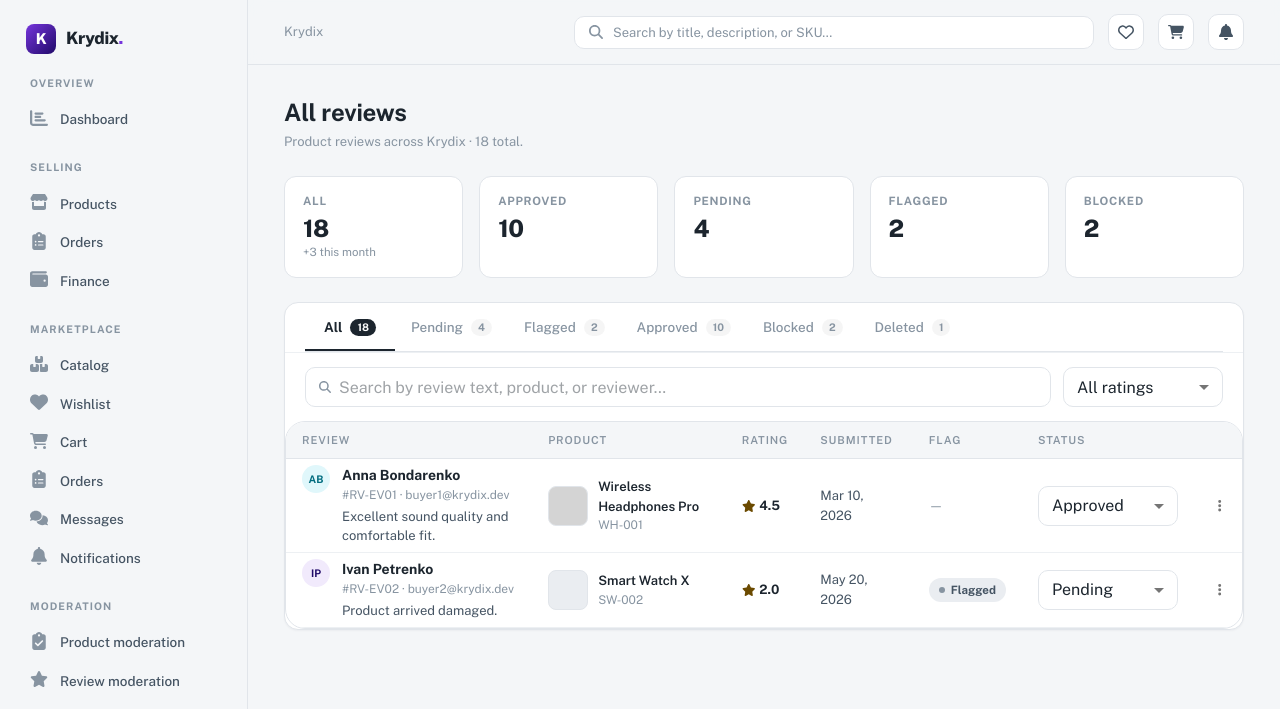
Test case: ReviewsManagementPage — Admin › changes review status via dropdown
Click the dropdown labelled "Approved" at (1088, 506), box left=1052, top=496, right=1124, bottom=515
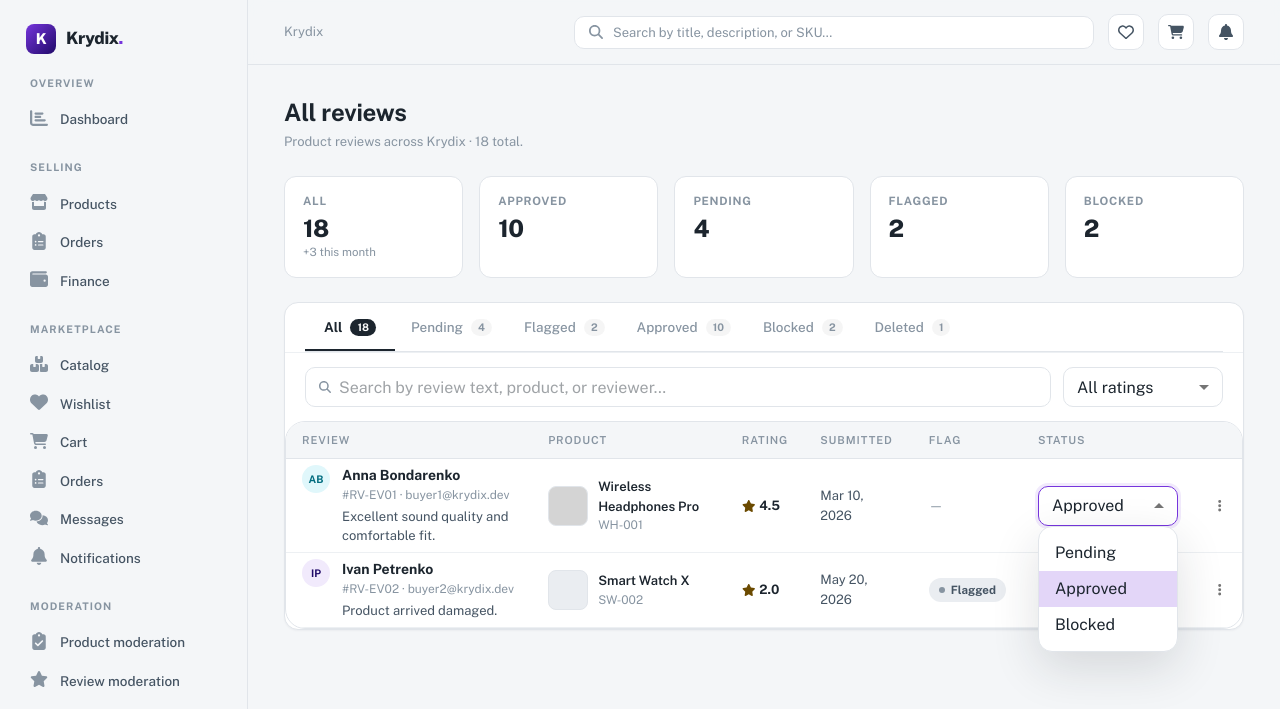
Click the option "Blocked" at (1085, 625), box left=1055, top=615, right=1115, bottom=634
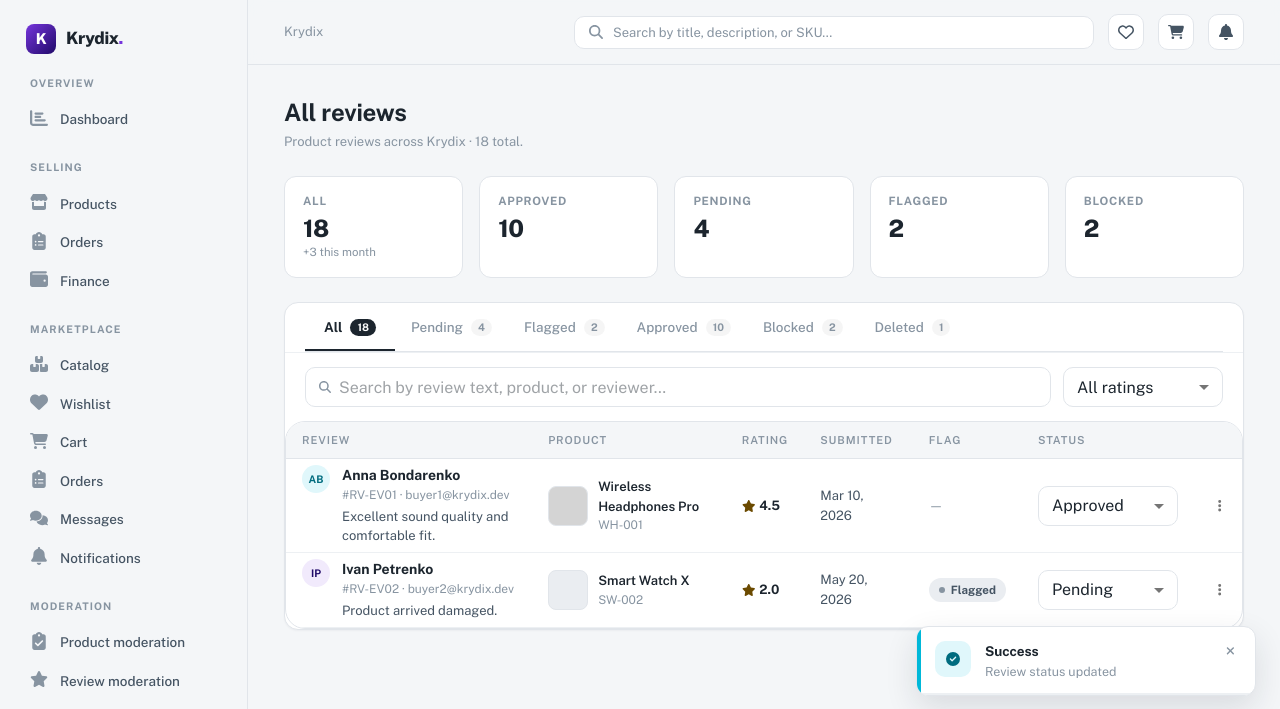
Check: the text "Review status updated" is shown, box left=985, top=664, right=1116, bottom=679
